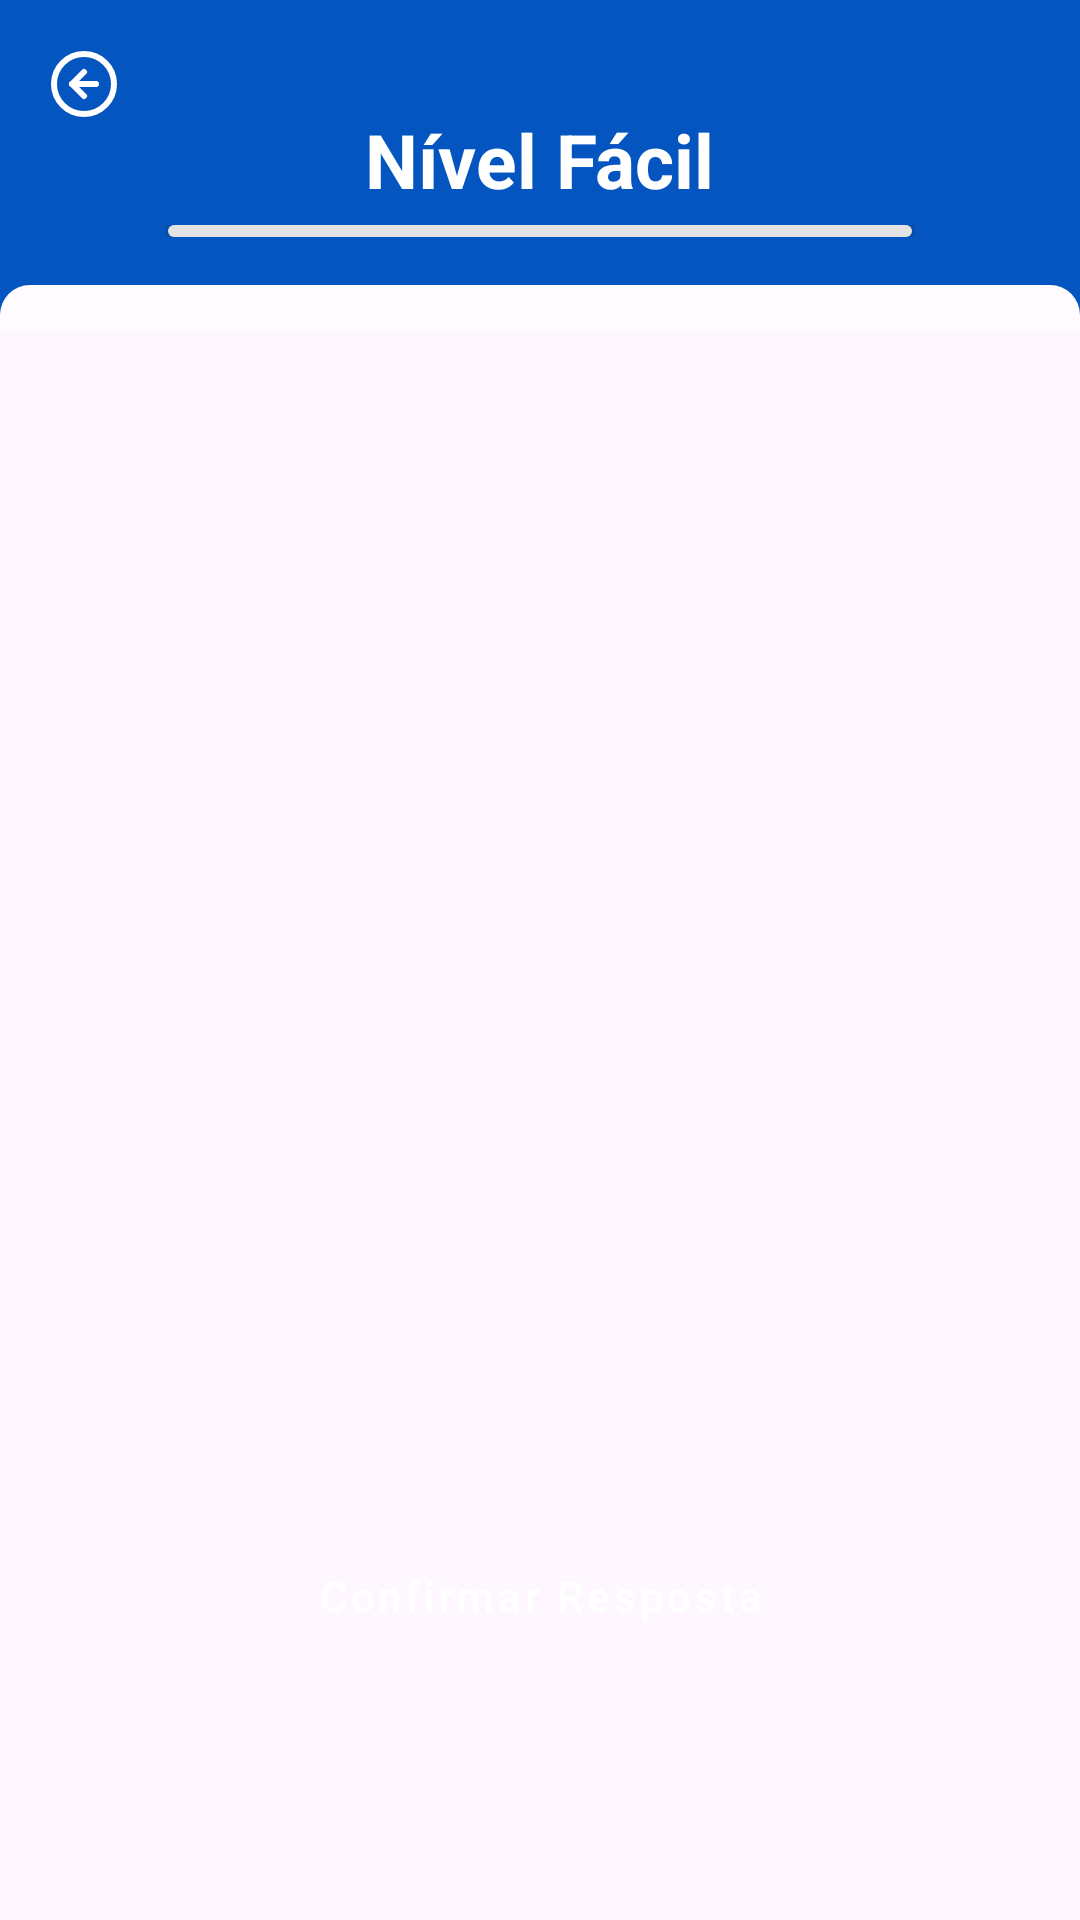

Screen size 1080 x 1920. Icon name, then its center in pixels as (x,y):
Voltar: (84,84)
